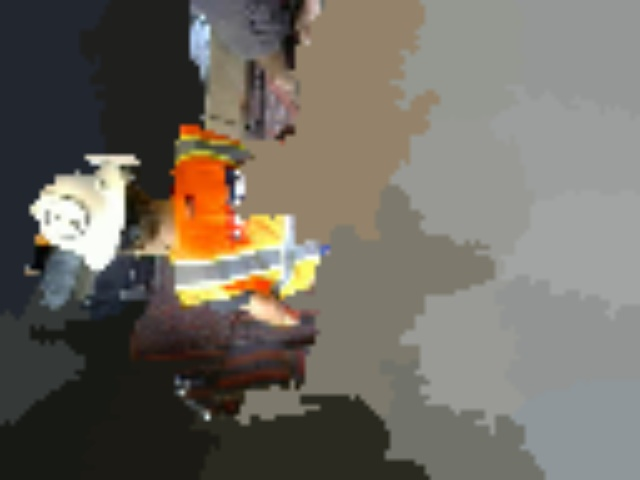one: (46, 196, 85, 237)
